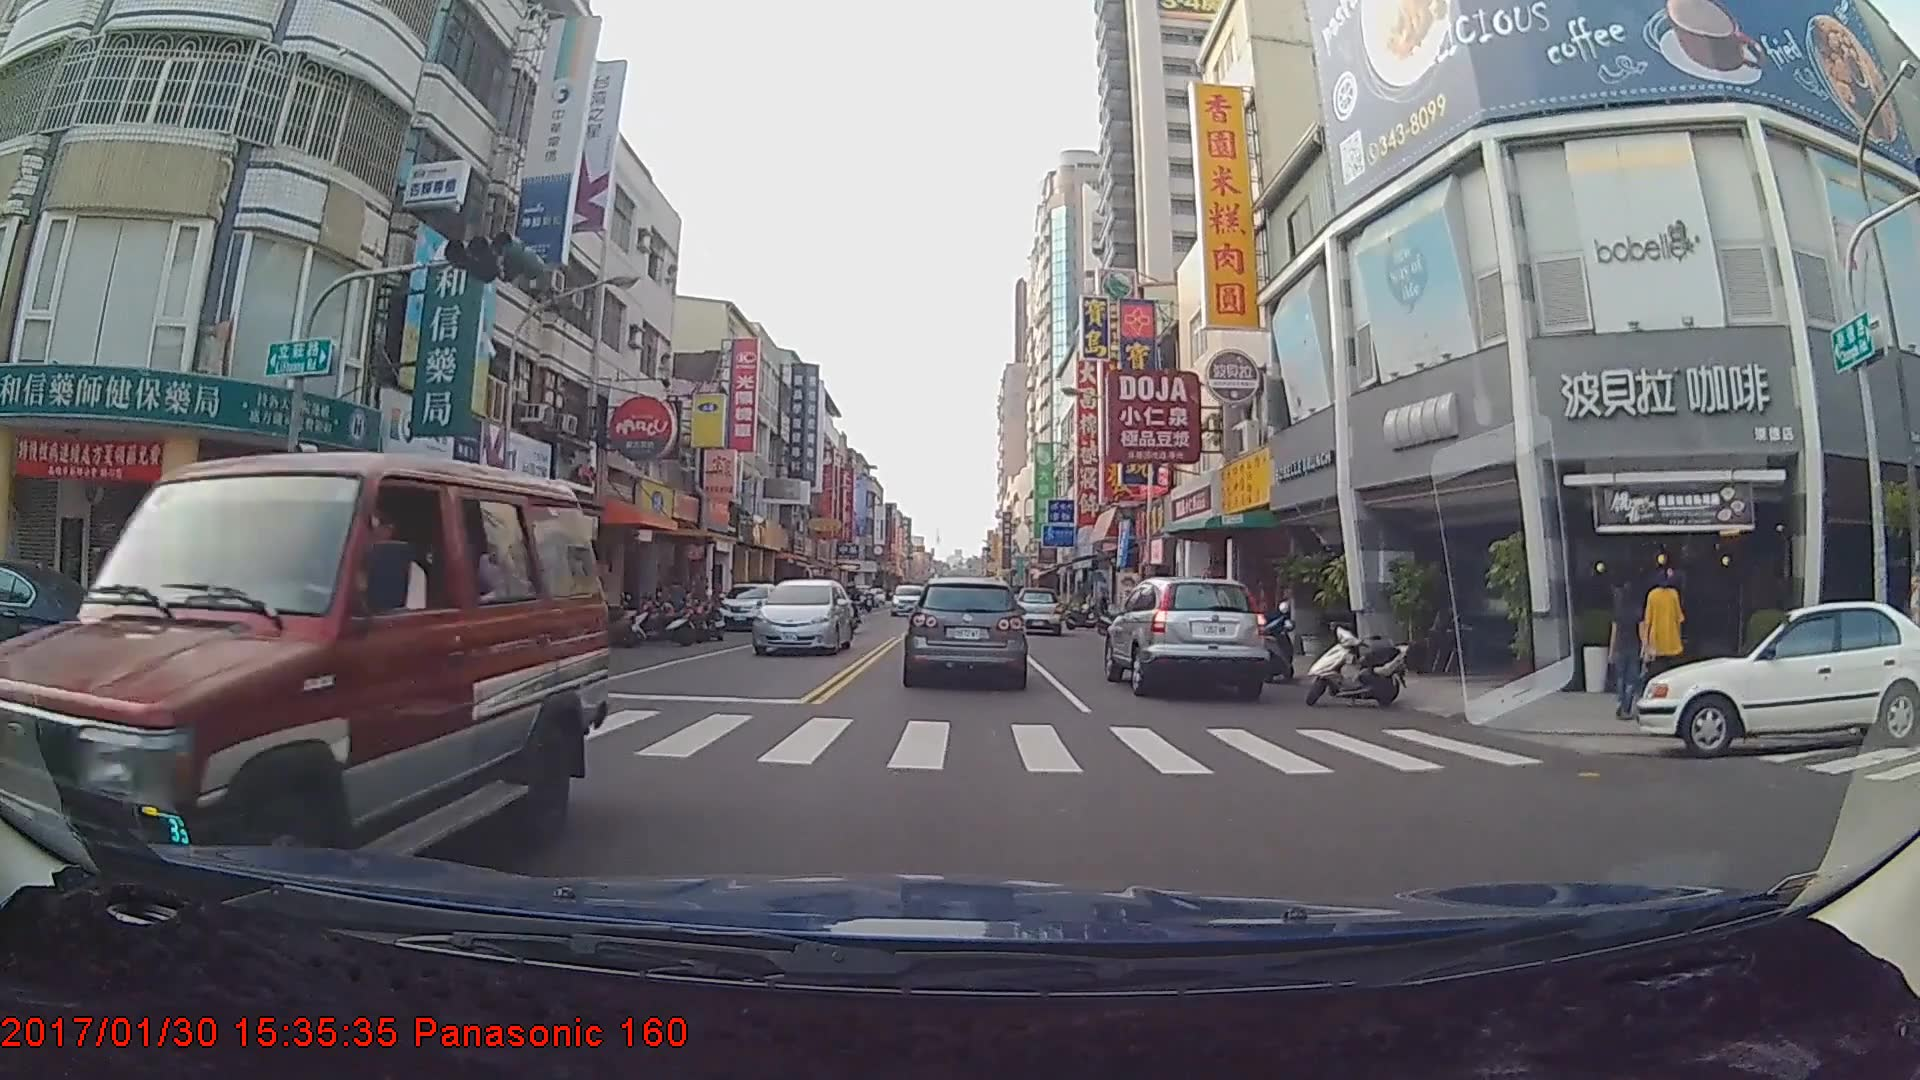pedestrian: (1604, 582, 1654, 725), (1642, 568, 1689, 694)
vehicle: (0, 452, 609, 933), (1638, 596, 1920, 758), (1103, 571, 1268, 697), (904, 577, 1026, 684), (751, 577, 854, 657), (717, 580, 778, 630), (1011, 586, 1062, 635), (889, 583, 926, 616)
